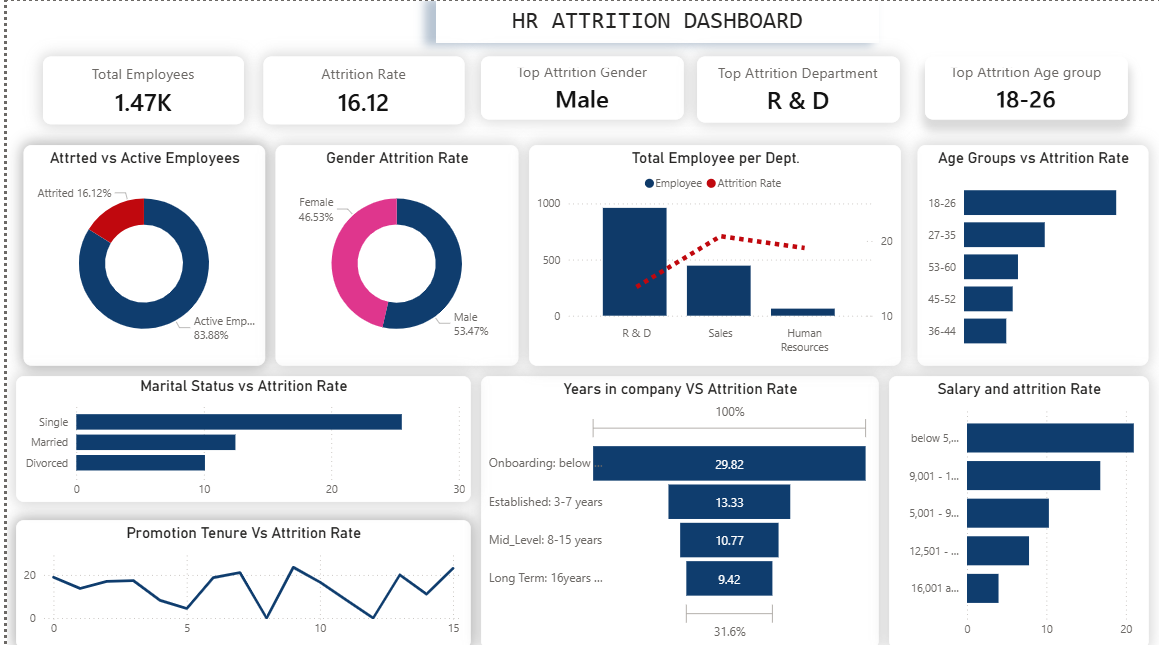

What the dashboard file says about the page in this screenshot:
{"tool":"powerbi","page":{"name":"Page 1","canvas":[1280,720],"ordinal":0},"visuals":[{"type":"textbox","box":[476.7,0,491.7,46.7],"z":0},{"type":"cardVisual","fields":{"Data":["Count(attrition_clean.employee_number)"]},"box":[40,61.7,223.3,75],"z":1000},{"type":"cardVisual","fields":{"Data":["Sum(attrition_table.Values)"]},"box":[285,61.7,223.3,75],"z":2000},{"type":"cardVisual","fields":{"Data":["Max(gender_table.Gender)"]},"box":[526.7,61.7,225,70],"z":3000},{"type":"cardVisual","fields":{"Data":["Min(dept_table.Department)"]},"box":[766.7,61.7,225,73.3],"z":4000},{"type":"cardVisual","fields":{"Data":["Min(age_group_table.Age_Group)"]},"box":[1020,61.7,225,70],"z":5000},{"type":"donutChart","title":"Attrted vs Active Employees","fields":{"Category":["attrition_table.Details"],"Y":["Sum(attrition_table.Values)"]},"box":[18.3,160,268.3,245],"z":6000},{"type":"clusteredBarChart","title":"Age Groups vs Attrition Rate","fields":{"Category":["age_group_table.Age_Group"],"Y":["Sum(age_group_table.Attrition Rate)"]},"box":[1011.7,160,256.7,245],"z":7000},{"type":"lineChart","title":"Promotion Tenure Vs Attrition Rate","fields":{"Category":["last_promotion.Years_Since_Last_Promotion"],"Y":["Avg(last_promotion.Attrition Rate)"]},"box":[10,576.7,505,143.3],"z":8000},{"type":"donutChart","title":"Gender Attrition Rate","fields":{"Category":["gender_table.Gender"],"Y":["Avg(gender_table.Attrition Rate)"]},"box":[298.3,160,270,245],"z":9000},{"type":"funnel","title":"Years in company VS Attrition Rate","fields":{"Category":["grouped_tenure.Tenure_Grp"],"Y":["Sum(grouped_tenure.Attrition Rate)"]},"box":[526.7,416.7,441.7,303.3],"z":10000},{"type":"barChart","title":"Marital Status vs Attrition Rate","fields":{"Category":["Marital_status_table.marital_status"],"Y":["Avg(Marital_status_table.Attrition Rate)"]},"box":[10,416.7,505,140],"z":11000},{"type":"lineStackedColumnComboChart","title":"Total Employee per Dept.","fields":{"Category":["dept_table.Department"],"Y":["Sum(dept_table.Total Staff)"],"Y2":["Avg(dept_table.Attrition Rate)"]},"box":[580,160,413.3,245],"z":12000},{"type":"clusteredBarChart","title":"Salary and attrition Rate","fields":{"Category":["salary_range.Salary_Range"],"Y":["Sum(salary_range.Attrition Rate)"]},"box":[980,416.7,288.3,303.3],"z":13000}]}

Visuals, with their boxes in screenshot pixels (x1, y1, x2, y2), scaled from the page's 1280x720 canvas onto the 1159x645 screenshot:
textbox: rect(432, 0, 877, 42)
cardVisual - Count(attrition_clean.employee_number): rect(36, 55, 238, 122)
cardVisual - Sum(attrition_table.Values): rect(258, 55, 460, 122)
cardVisual - Max(gender_table.Gender): rect(477, 55, 681, 118)
cardVisual - Min(dept_table.Department): rect(694, 55, 898, 121)
cardVisual - Min(age_group_table.Age_Group): rect(924, 55, 1127, 118)
"Attrted vs Active Employees" donutChart: rect(17, 143, 260, 363)
"Age Groups vs Attrition Rate" clusteredBarChart: rect(916, 143, 1148, 363)
"Promotion Tenure Vs Attrition Rate" lineChart: rect(9, 517, 466, 644)
"Gender Attrition Rate" donutChart: rect(270, 143, 515, 363)
"Years in company VS Attrition Rate" funnel: rect(477, 373, 877, 644)
"Marital Status vs Attrition Rate" barChart: rect(9, 373, 466, 499)
"Total Employee per Dept." lineStackedColumnComboChart: rect(525, 143, 899, 363)
"Salary and attrition Rate" clusteredBarChart: rect(887, 373, 1148, 644)
